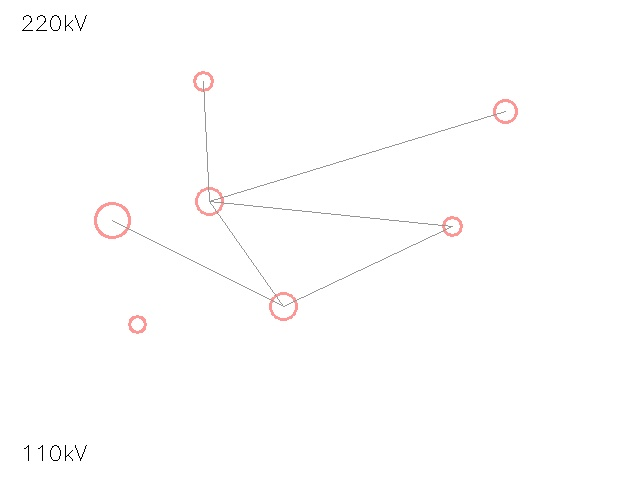current_transformer: (434, 208, 470, 244)
disconnect_switch: (482, 88, 528, 134), (184, 62, 222, 100)
feeder_terminal: (183, 175, 235, 227)
fuse: (256, 279, 310, 333), (120, 307, 154, 341)
load_break_switch: (78, 186, 146, 254)
